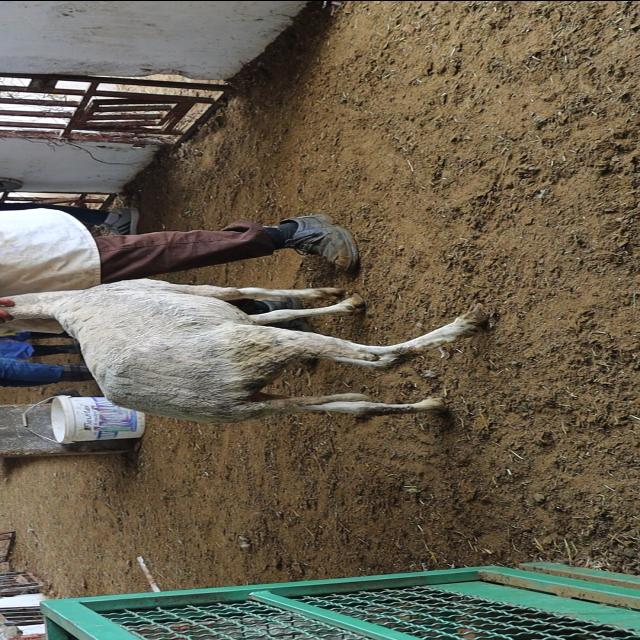Score_3: (0, 278, 488, 422)
